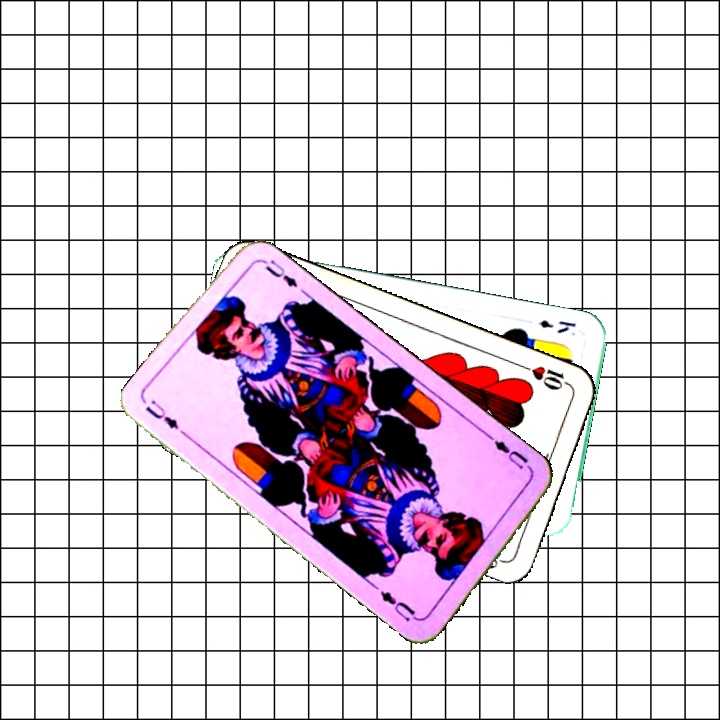EK: (535, 315, 578, 336)
EU: (485, 432, 535, 474), (141, 396, 182, 433)
H10: (517, 360, 574, 393)
